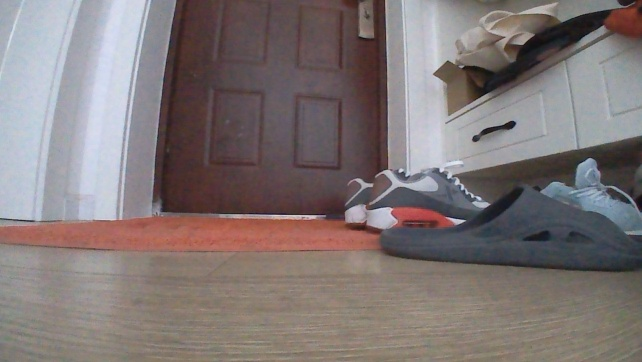blanket: (0, 213, 382, 254)
door_anno: (85, 0, 435, 226)
shoe: (362, 164, 493, 232), (539, 155, 641, 237)
slipper: (378, 182, 641, 271)
